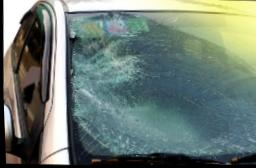Windshield: (68, 13, 256, 163)
